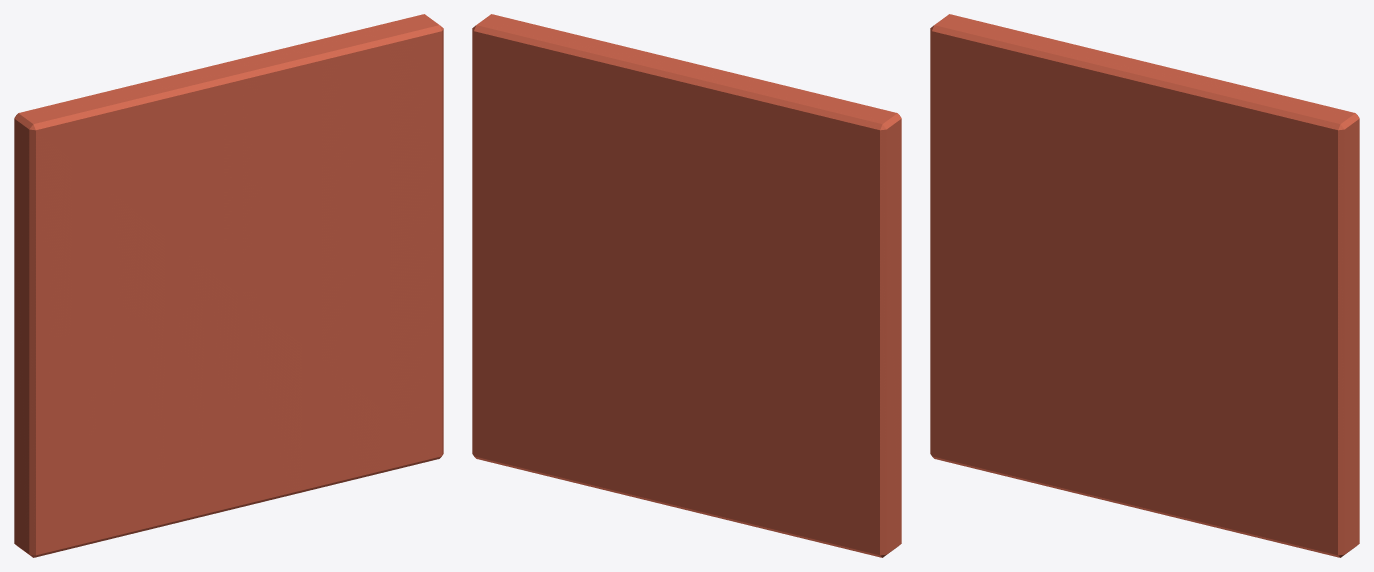
Rendered from Kit_Brick_Wall.glb.
3 renders of one model, left to right at view 1: azimuth 30°, elevation 25°; view 2: azimuth 150°, elevation 25°; view 3: azimuth 330°, elevation 25°, orthographic.
Parts seen in each view (by area): view 1: Kit_Brick_Wall_LOD0; view 2: Kit_Brick_Wall_LOD0; view 3: Kit_Brick_Wall_LOD0.
Boxes of the visible parts, <box> form: Kit_Brick_Wall_LOD0: <box>14,14,443,557</box>; Kit_Brick_Wall_LOD0: <box>472,14,901,557</box>; Kit_Brick_Wall_LOD0: <box>930,14,1359,557</box>.
Size of what is drawn, in the model's own units: 3 by 3 by 0.25.
1 material, 1 textured.
